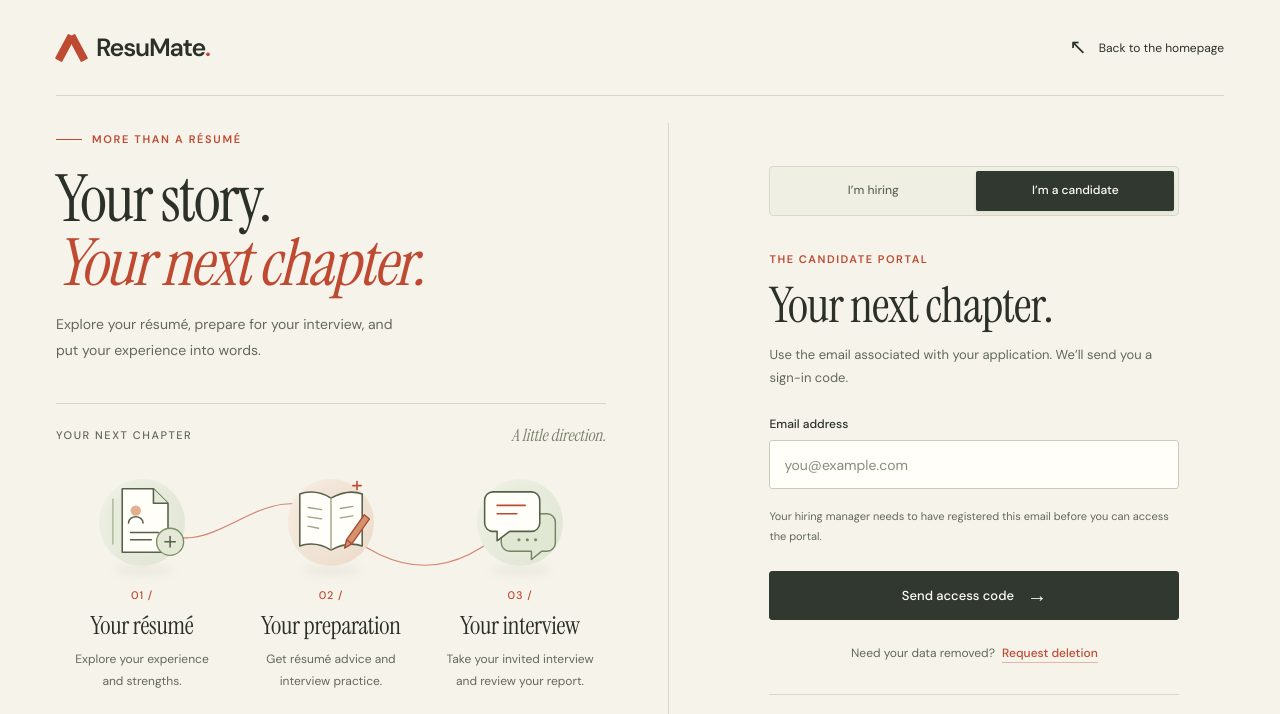
Test: the code step › shows the code a development server without email sends back
The image size is (1280, 714).
Step 1. Type "Dana@X.com" into the field labelled "Email address" → (974, 465), box [769,440,1179,489]
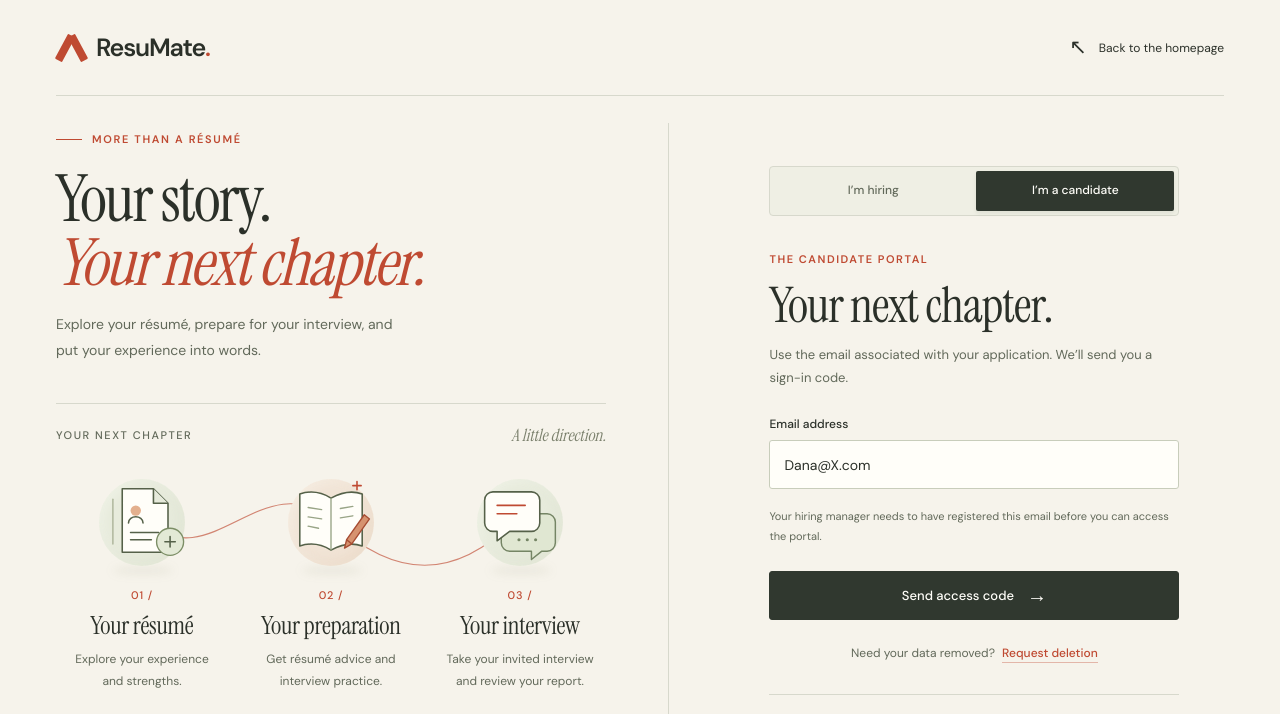
Step 2. Click the button "Send access code →" → click(974, 595), box [769,571,1179,620]
(page scrolled)
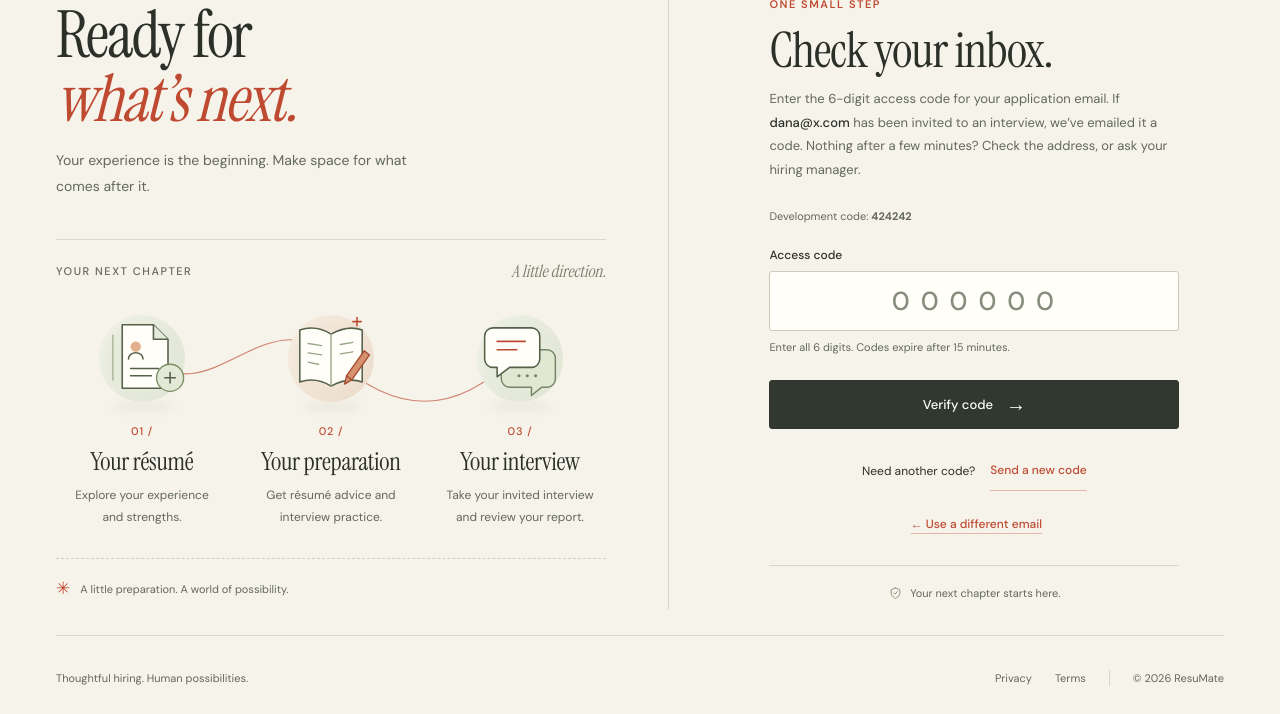
Check: the text "Development code: 424242" is shown, box [769,209,912,223]
Step 3. Click the button "← Use a different email" → click(976, 524), box [911,515,1042,534]
(page scrolled)
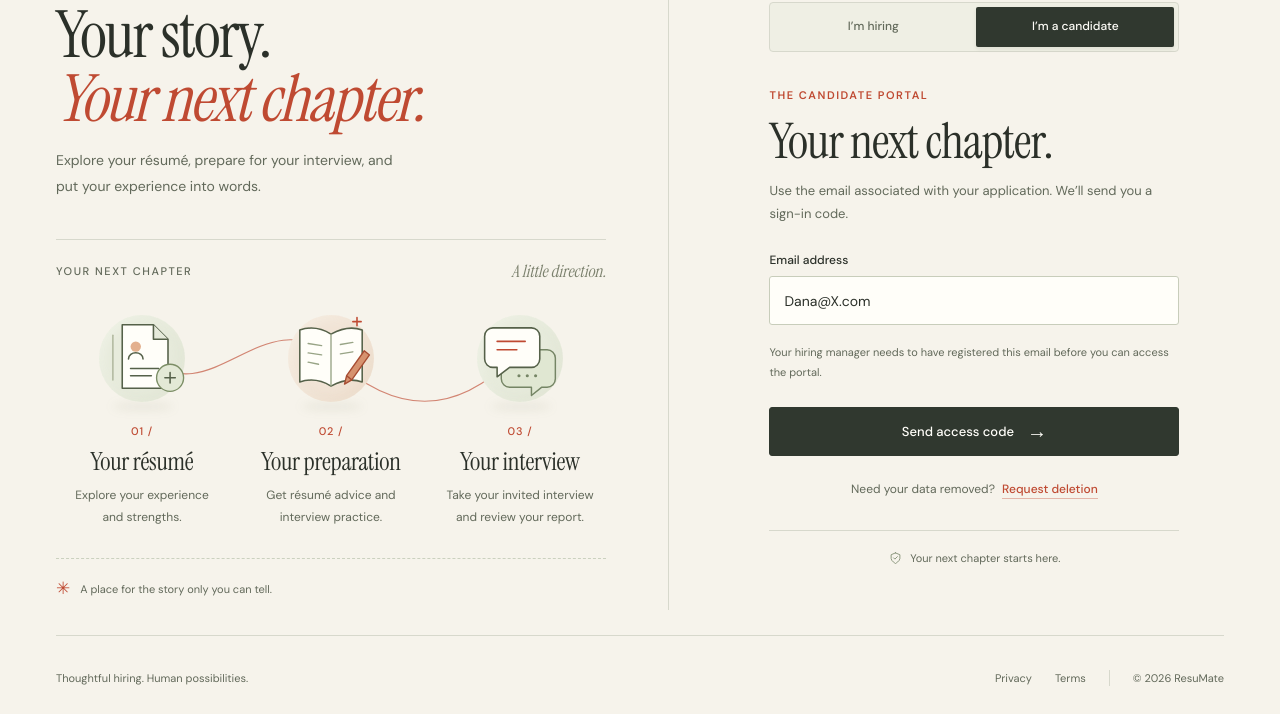
Check: the text "Development code" is gone
